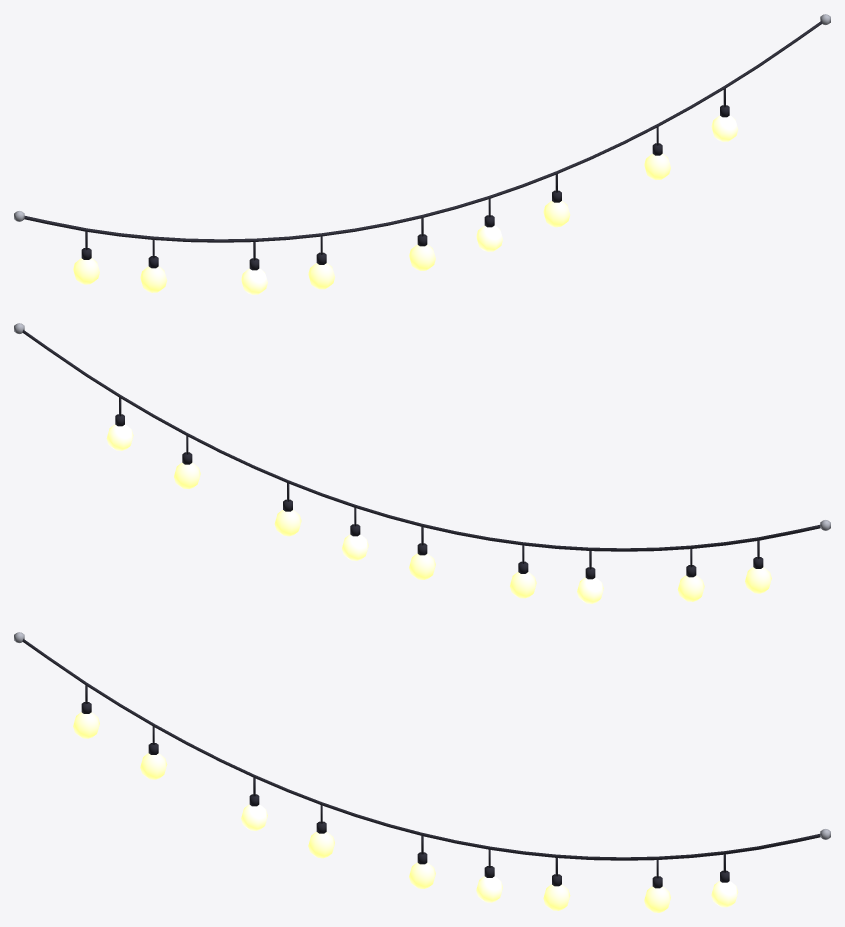
The model's file is balcony_lights.glb.
The picture shows the model from 3 angles, top to bottom: view 1: azimuth 30°, elevation 25°; view 2: azimuth 150°, elevation 25°; view 3: azimuth 330°, elevation 25°; orthographic projection.
Visible parts, largest first — view 1: bulbs, balcony_lights; view 2: bulbs, balcony_lights; view 3: bulbs, balcony_lights.
Part boxes in pixels (box(x1,y1,x2,y2)): bulbs: box(73, 88, 738, 294); balcony_lights: box(14, 14, 830, 242); bulbs: box(106, 397, 771, 603); balcony_lights: box(14, 323, 830, 551); bulbs: box(73, 685, 738, 912); balcony_lights: box(14, 632, 830, 860).
Size of the model in its own units: 3.03 by 0.56 by 0.09.
